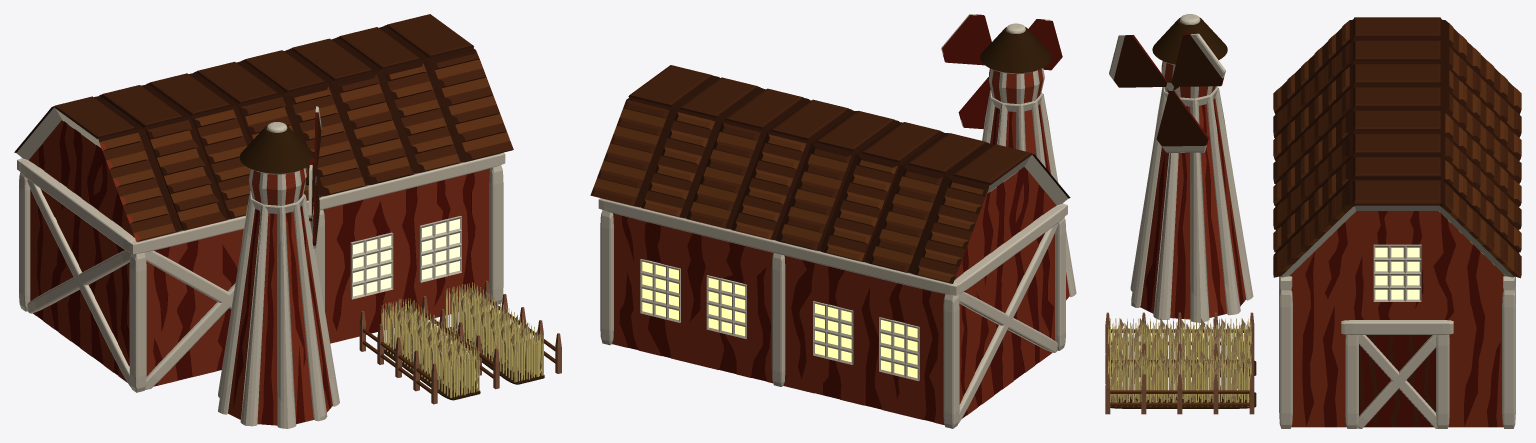
The model's file is farm.glb.
3 renders of one model, left to right at view 1: azimuth 30°, elevation 25°; view 2: azimuth 150°, elevation 25°; view 3: azimuth 270°, elevation 25°, orthographic. The views are drawn at different scales.
Parts seen in each view (by area): view 1: Cube, Cylinder, Cube.020, Cube.007, Cone, Cube.016, Cube.017, Cube.002, Cube.004, Cylinder.003, Cylinder.009, Cube.024 (+22 smaller); view 2: Cube, Cube.020, Cylinder, Cube.007, Cylinder.016, Cone, Cube.013, Cube.015, Cube.012, Cube.014, Cube.002, Cube.019 (+1 smaller); view 3: Cube, Cylinder, Cube.020, Cylinder.016, Cube.008, Cylinder.001, Cone, Cube.022, Cylinder.004, Cylinder.006, Cube.001, Cube.003 (+19 smaller).
Part boxes in pixels (x1,y1,x2,y2): Cube: [14, 14, 513, 386]; Cylinder: [218, 168, 339, 428]; Cube.020: [19, 165, 503, 392]; Cube.007: [17, 152, 505, 254]; Cone: [239, 122, 314, 174]; Cube.016: [350, 232, 393, 299]; Cube.017: [419, 216, 461, 282]; Cube.002: [19, 160, 135, 252]; Cube.004: [27, 179, 130, 386]; Cylinder.003: [359, 311, 437, 404]; Cylinder.009: [445, 289, 515, 382]; Cube.024: [145, 212, 313, 389]; Cube: [590, 65, 1070, 425]; Cube.020: [600, 210, 1065, 428]; Cylinder: [982, 68, 1076, 300]; Cube.007: [598, 198, 1067, 295]; Cylinder.016: [941, 14, 1062, 129]; Cone: [980, 23, 1051, 74]; Cube.013: [706, 275, 746, 338]; Cube.015: [813, 301, 853, 364]; Cube.012: [640, 259, 680, 322]; Cube.014: [879, 317, 919, 381]; Cube.002: [954, 205, 1065, 293]; Cube.019: [958, 223, 1057, 423]; Cube: [1273, 17, 1521, 427]; Cylinder: [1130, 61, 1253, 322]; Cube.020: [1279, 277, 1515, 428]; Cylinder.016: [1109, 33, 1225, 152]; Cube.008: [1373, 244, 1421, 301]; Cylinder.001: [1105, 373, 1254, 414]; Cone: [1152, 14, 1227, 65]; Cube.022: [1341, 320, 1453, 334]; Cylinder.004: [1109, 364, 1248, 406]; Cylinder.006: [1111, 359, 1250, 402]; Cube.001: [1357, 335, 1436, 428]; Cube.003: [1358, 335, 1437, 428].
Size of the model in its own units: 18.32 by 13.07 by 17.33.
